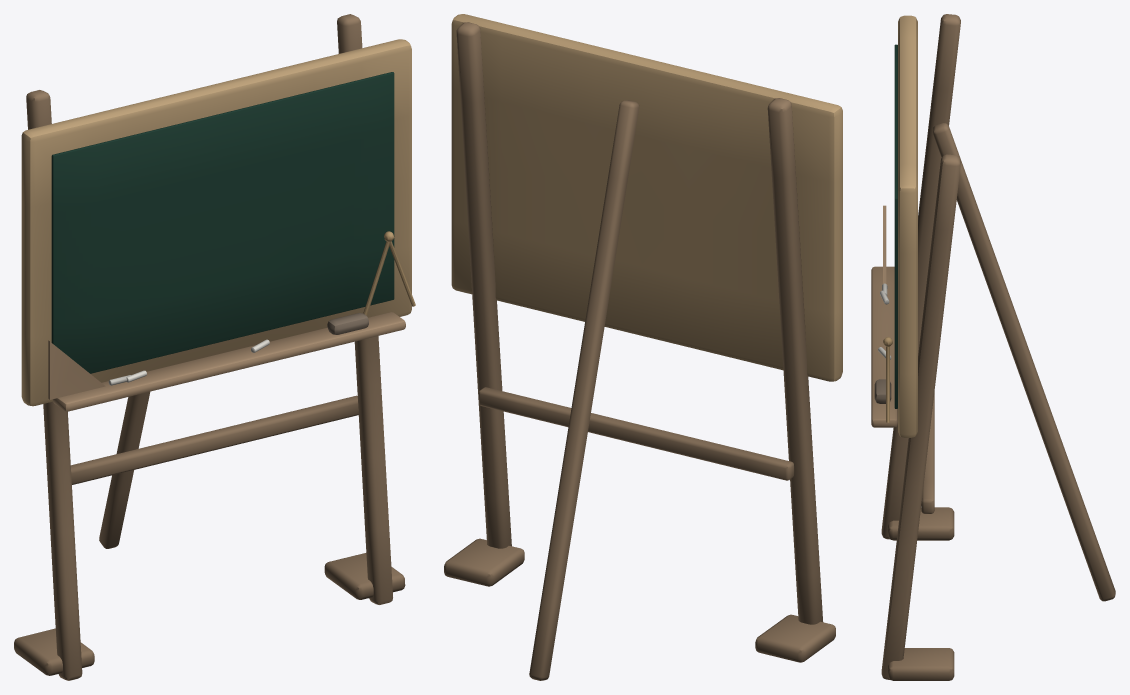
Rendered from obj_kit_board.glb.
3 views of the same model, side by side, from view 1: azimuth 30°, elevation 25°; view 2: azimuth 150°, elevation 25°; view 3: azimuth 270°, elevation 25° (orthographic). The views are drawn at different scales.
Parts seen in each view (by area): view 1: Cube.007, Cube.006, Cube, Cube.002, Cube.008, Cube.005, Cube.004, Cube.001, Cube.003, sq, Cube.009; view 2: Cube.006, Cube, Cube.002, Cube.004, Cube.005, Cube.001, Cube.003; view 3: Cube.002, Cube.004, Cube.006, Cube, Cube.008, Cube.003, Cube.007, Cube.001, Cube.005.
Part boxes in pixels (x1=…): Cube.007: x1=51, y1=72, x2=394, y2=373; Cube.006: x1=21, y1=39, x2=411, y2=406; Cube: x1=26, y1=90, x2=82, y2=680; Cube.002: x1=337, y1=14, x2=392, y2=604; Cube.008: x1=52, y1=312, x2=405, y2=411; Cube.005: x1=71, y1=395, x2=358, y2=484; Cube.004: x1=99, y1=391, x2=150, y2=548; Cube.001: x1=14, y1=628, x2=94, y2=675; Cube.003: x1=324, y1=553, x2=405, y2=599; sq: x1=48, y1=340, x2=105, y2=399; Cube.009: x1=327, y1=313, x2=368, y2=334; Cube.006: x1=451, y1=14, x2=842, y2=381; Cube: x1=767, y1=98, x2=822, y2=624; Cube.002: x1=456, y1=22, x2=511, y2=548; Cube.004: x1=529, y1=100, x2=639, y2=680; Cube.005: x1=478, y1=387, x2=794, y2=480; Cube.001: x1=755, y1=614, x2=835, y2=662; Cube.003: x1=444, y1=538, x2=524, y2=586; Cube.002: x1=881, y1=154, x2=960, y2=679; Cube.004: x1=933, y1=123, x2=1115, y2=601; Cube.006: x1=898, y1=15, x2=917, y2=437; Cube: x1=881, y1=14, x2=960, y2=539; Cube.008: x1=871, y1=266, x2=897, y2=427; Cube.003: x1=888, y1=648, x2=954, y2=680; Cube.007: x1=894, y1=44, x2=897, y2=408; Cube.001: x1=888, y1=507, x2=954, y2=540; Cube.005: x1=921, y1=392, x2=934, y2=513.
Bounding box in the file's own units: 1.24 × 1.73 × 0.7348.
